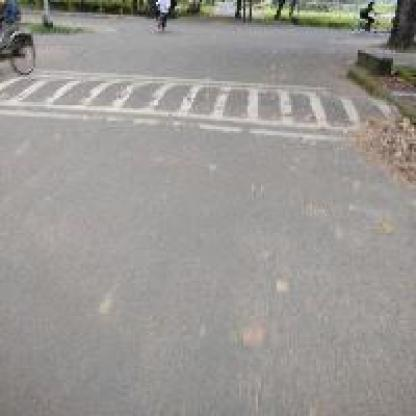Speed Bump: (0, 68, 408, 142)
